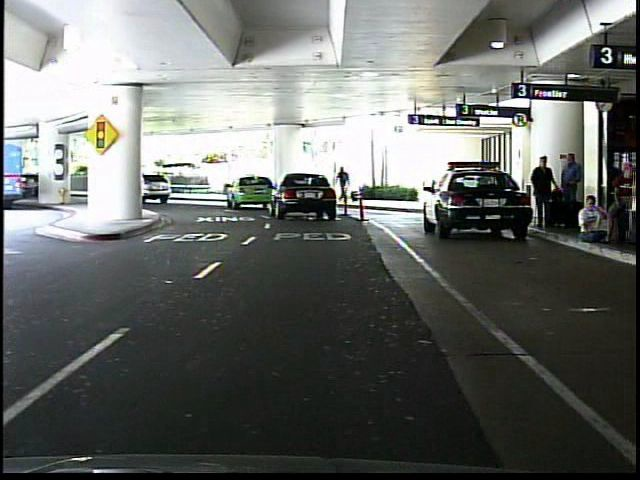person: (556, 148, 586, 230), (529, 153, 559, 231), (337, 161, 353, 205)
